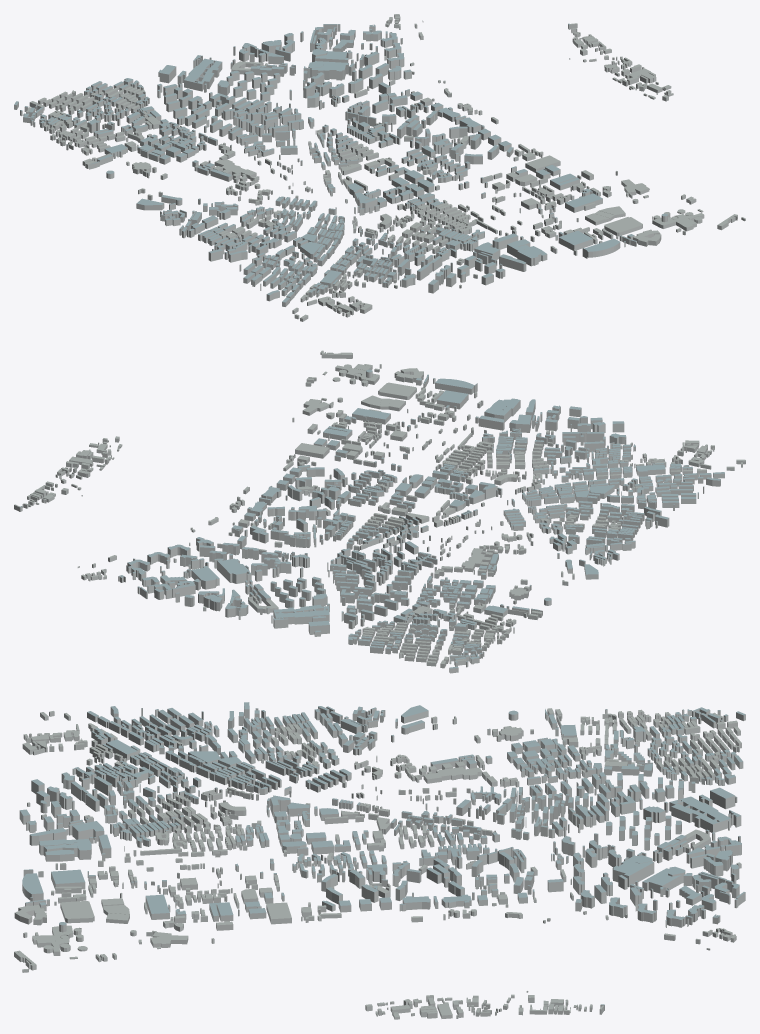
Rendered from far.glb.
3 views of the same model, one above another, from view 1: azimuth 30°, elevation 25°; view 2: azimuth 150°, elevation 25°; view 3: azimuth 270°, elevation 25° (orthographic). The views are drawn at different scales.
Bounding box in the file's own units: 2130 × 40.56 × 2135.
